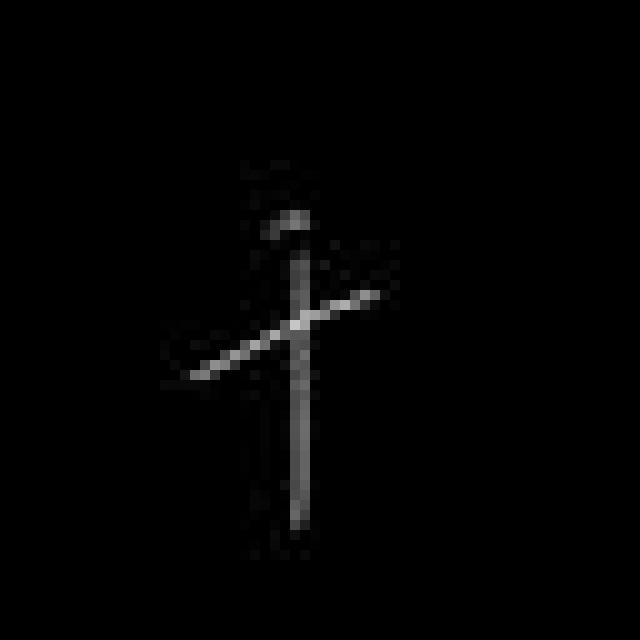1000 -a thousand-: (177, 198, 397, 544)
